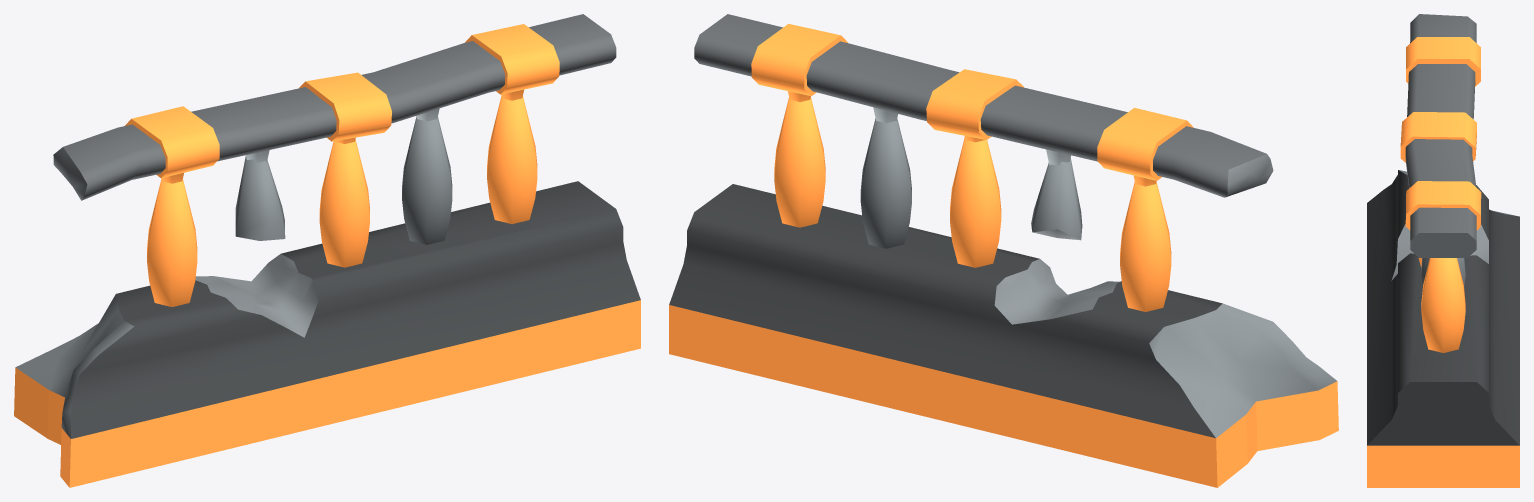
Rendered from fence_004.glb.
3 renders of one model, left to right at view 1: azimuth 30°, elevation 25°; view 2: azimuth 150°, elevation 25°; view 3: azimuth 270°, elevation 25°, orthographic. The views are drawn at different scales.
Visible parts, largest first — view 1: fence_004; view 2: fence_004; view 3: fence_004.
Boxes of the visible parts, x1=… form: fence_004: x1=14, y1=14, x2=640, y2=487; fence_004: x1=669, y1=14, x2=1338, y2=487; fence_004: x1=1367, y1=14, x2=1519, y2=487.
Bounding box in the file's own units: 2.69 × 1.34 × 0.7133.
Materials: 2 (2 with a texture image).
